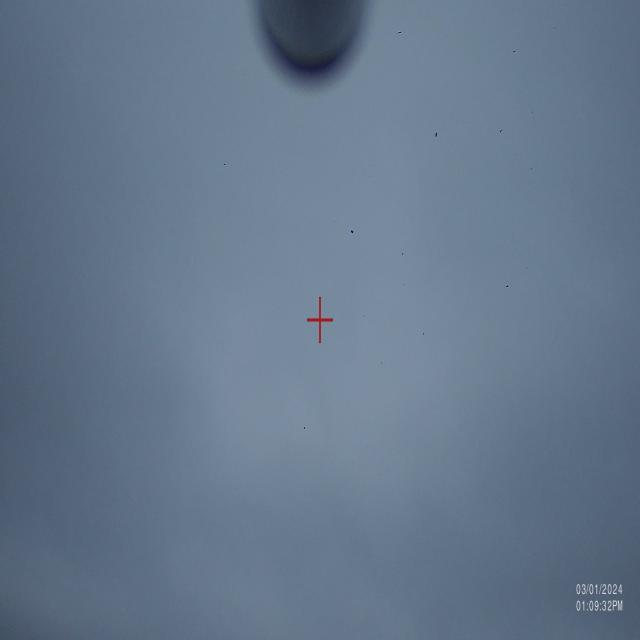broken: (340, 21, 557, 334)
